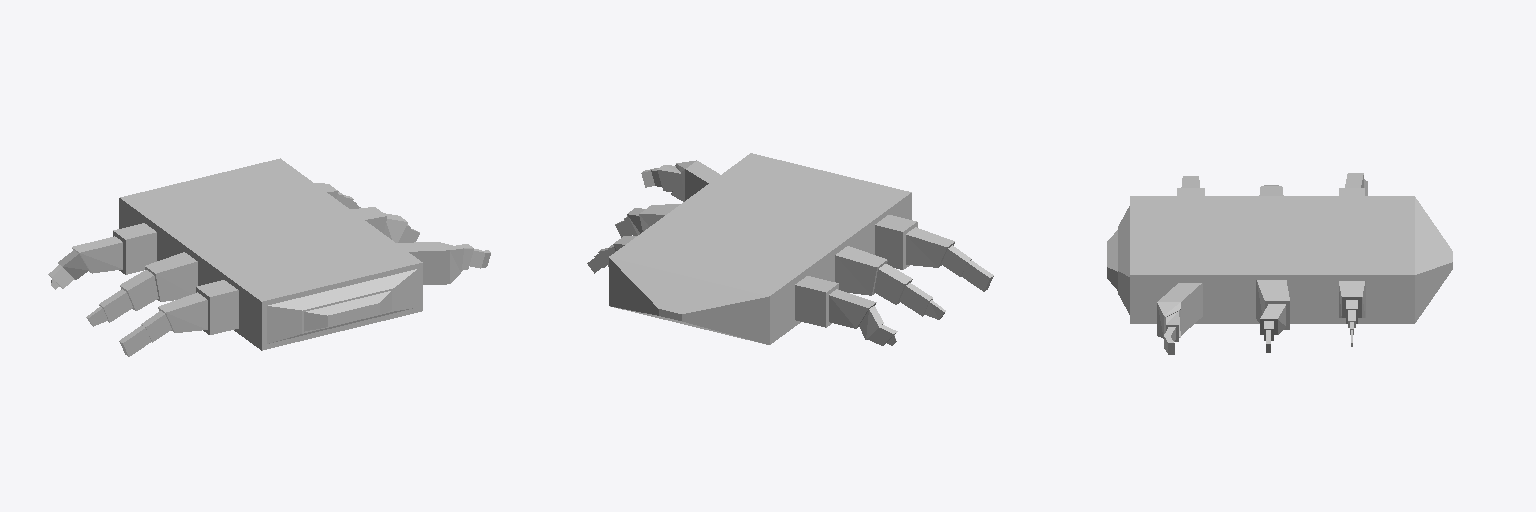
Rendered from mob_crab.obj.
3 views of the same model, side by side, from view 1: azimuth 30°, elevation 25°; view 2: azimuth 150°, elevation 25°; view 3: azimuth 270°, elevation 25° (orthographic).
Parts seen in each view (by area): view 1: Cube_Cube.001; view 2: Cube_Cube.001; view 3: Cube_Cube.001.
Boxes of the visible parts, box(x1,y1,x2,y2) form: Cube_Cube.001: box(48, 158, 490, 356); Cube_Cube.001: box(587, 153, 993, 345); Cube_Cube.001: box(1107, 173, 1452, 354).
Size of the model in its own units: 9.76 by 1.34 by 8.13.